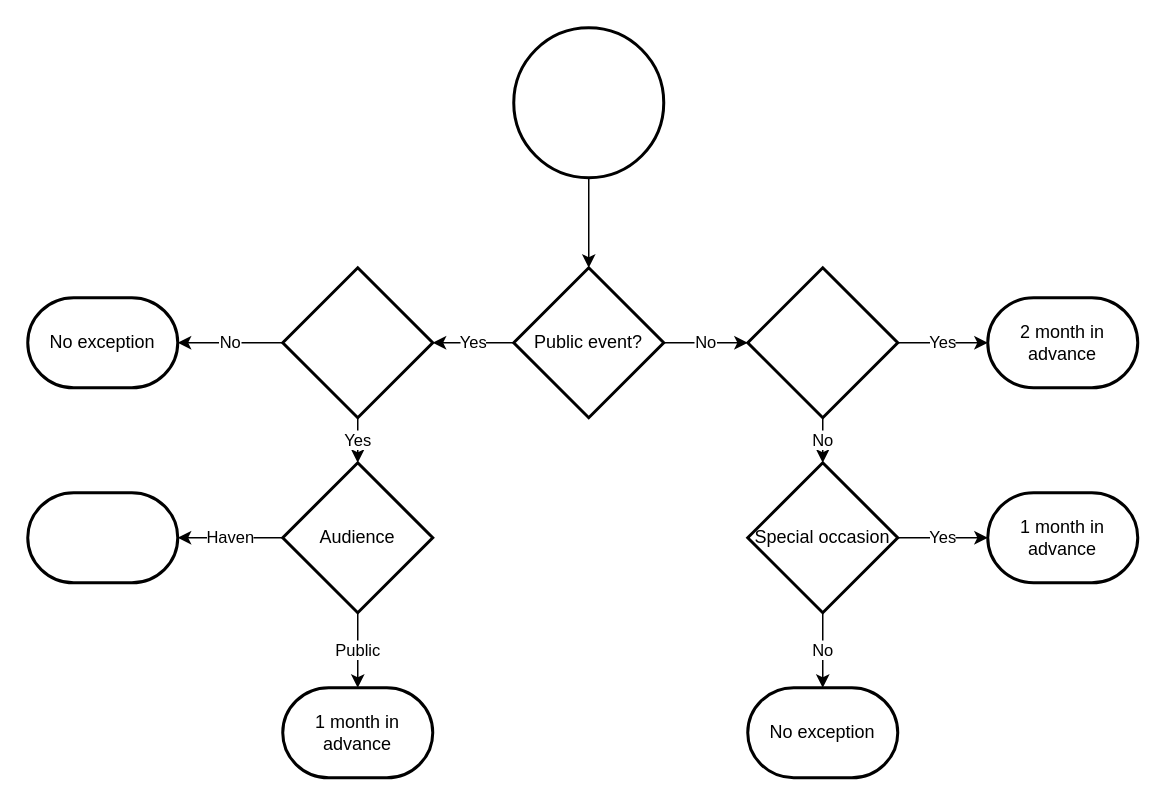
The diagram is 1164 pixels wide and 804 high, and some of its shapes have lost their labels. The centre of each missing label's shape, as x and y in pixels:
"2 months in advance" belongs at (102,537).
"Announced to public" belongs at (357,342).
"Birthday" belongs at (822,342).
"Start" belongs at (588,102).
